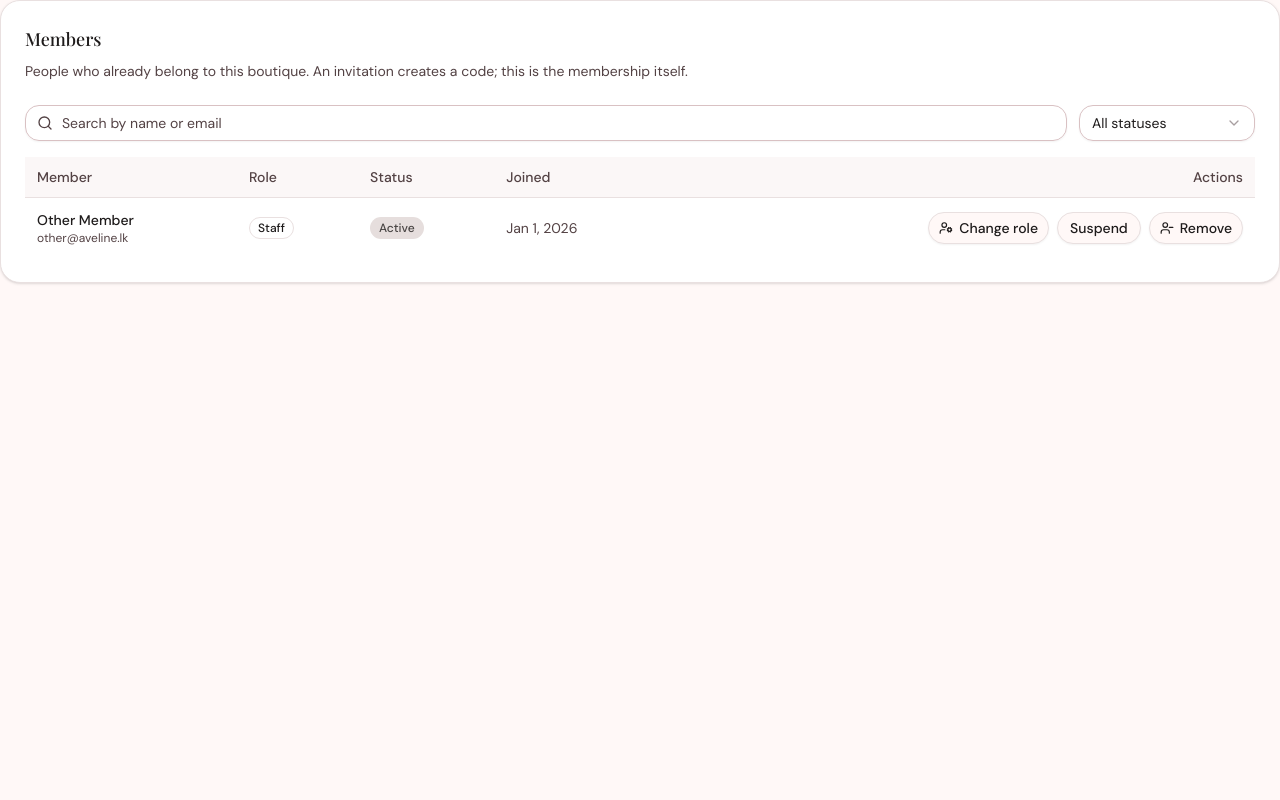
MembersTab › renders a permission message on 403 rather than a generic failure
Expected: the text "other@aveline.lk" is shown, left=37, top=230, right=128, bottom=246
Click the button "Change role" at (989, 228), box left=928, top=212, right=1049, bottom=244
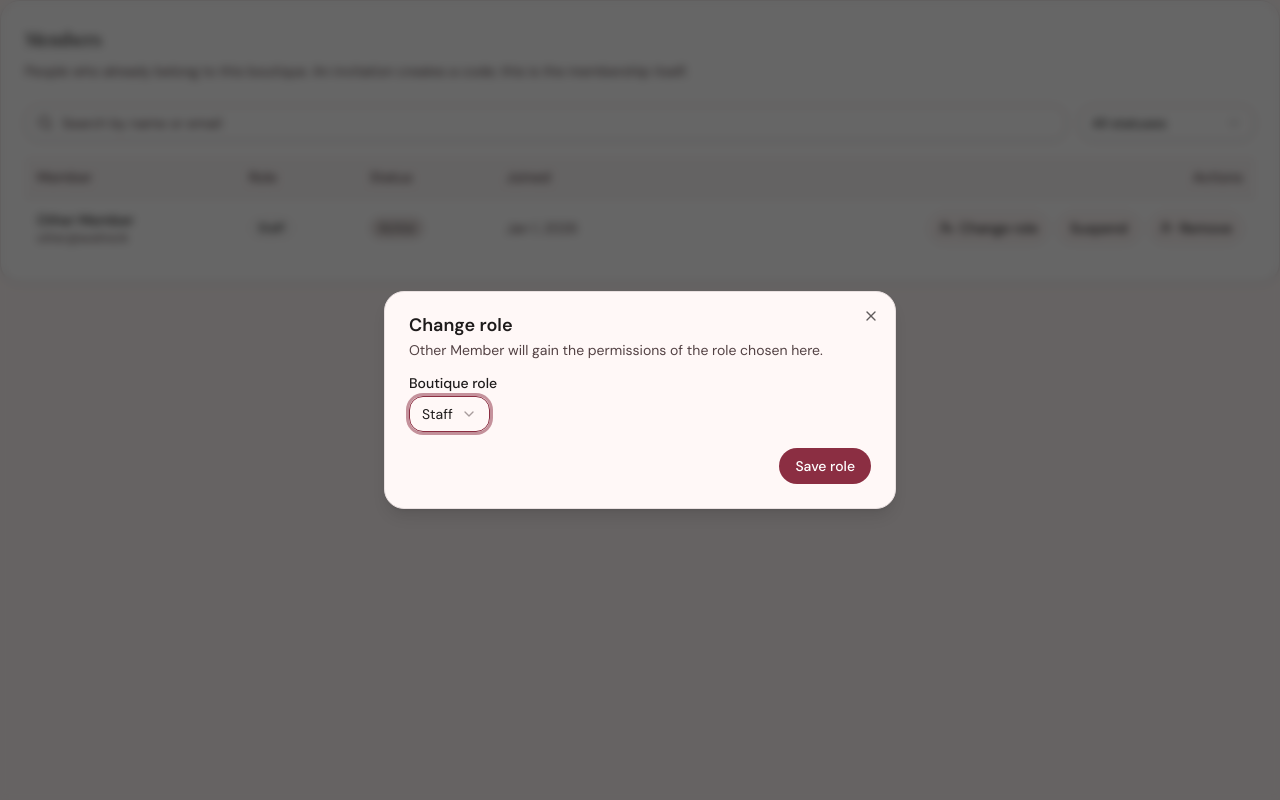
Click the button "Save role" at (825, 466), box left=779, top=448, right=871, bottom=484
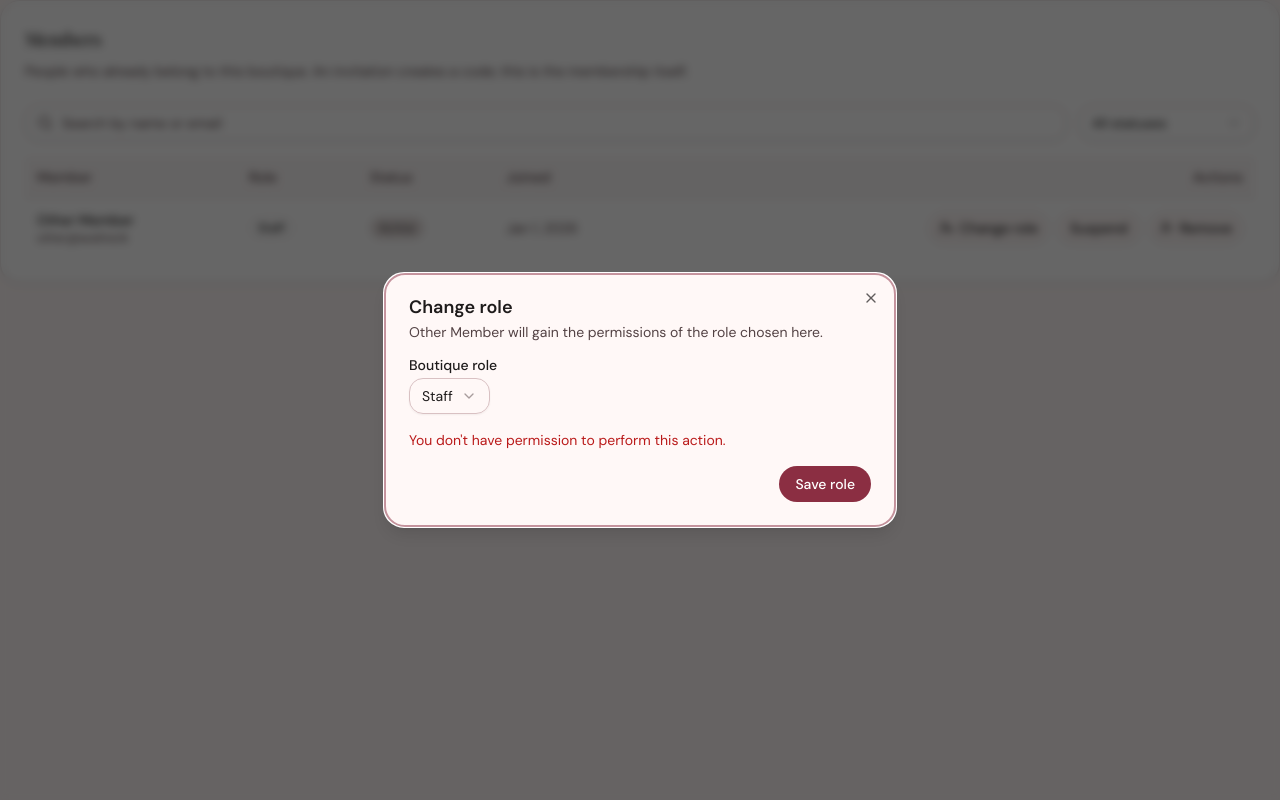
Result: the text "You don't have permission to perform this action." is shown at left=409, top=431, right=726, bottom=449
